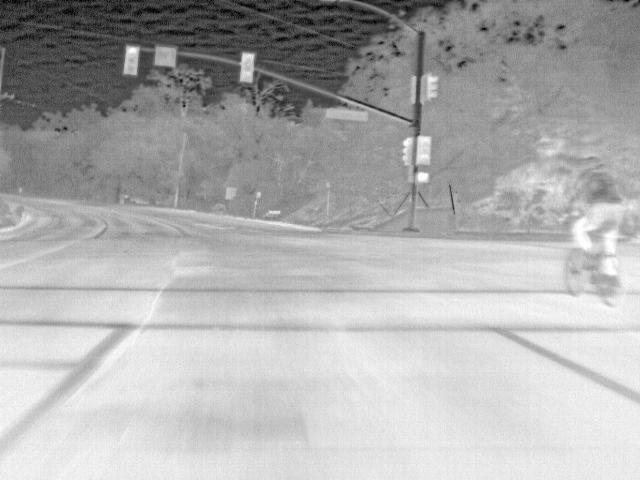person: (565, 154, 623, 272)
